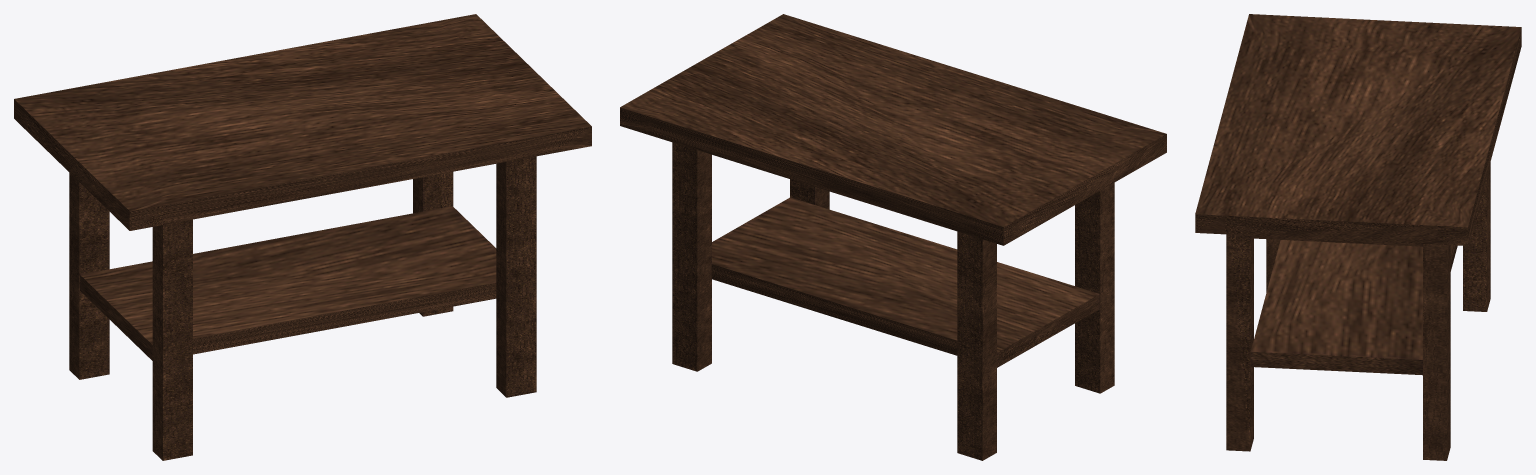
The model's file is MesaNormal.fbx.
The picture shows the model from 3 angles, left to right: view 1: azimuth 30°, elevation 25°; view 2: azimuth 150°, elevation 25°; view 3: azimuth 270°, elevation 25°; orthographic projection. The views are drawn at different scales.
Parts seen in each view (by area): view 1: MesaNormal, SegundoPisoMesaNormal; view 2: MesaNormal, SegundoPisoMesaNormal; view 3: MesaNormal, SegundoPisoMesaNormal.
Boxes of the visible parts, left/top/right/bottom form: MesaNormal: left=14, top=14, right=591, bottom=460; SegundoPisoMesaNormal: left=80, top=206, right=496, bottom=360; MesaNormal: left=620, top=14, right=1166, bottom=460; SegundoPisoMesaNormal: left=711, top=197, right=1099, bottom=367; MesaNormal: left=1195, top=14, right=1521, bottom=460; SegundoPisoMesaNormal: left=1250, top=240, right=1457, bottom=375.
Size of the model in its own units: 949 by 527 by 614.
Materials: 1 (1 with a texture image).
